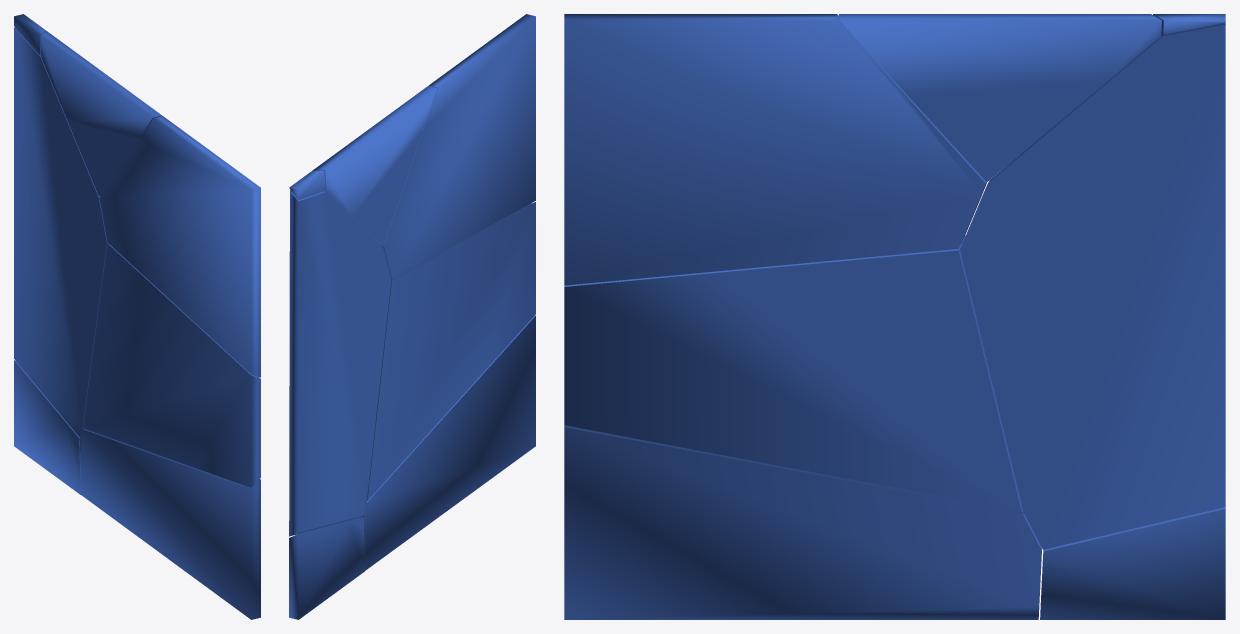
The model's file is emergencyBoxGlassDes2.fbx.
The picture shows the model from 3 angles, left to right: view 1: azimuth 30°, elevation 25°; view 2: azimuth 150°, elevation 25°; view 3: azimuth 270°, elevation 25°; orthographic projection. The views are drawn at different scales.
Parts seen in each view (by area): view 1: glass_cell.002, glass_cell.005, glass_cell.007, glass_cell.006, glass_cell.003, glass_cell.001, glass_cell; view 2: glass_cell.005, glass_cell.002, glass_cell.007, glass_cell.006, glass_cell.003, glass_cell.001, glass_cell; view 3: glass_cell.005, glass_cell.007, glass_cell.002, glass_cell.006, glass_cell.003, glass_cell.001, glass_cell.
Boxes of the visible parts, x1,y1,x2,y2 form: glass_cell.002: (83, 243, 260, 487); glass_cell.005: (14, 27, 108, 437); glass_cell.007: (99, 116, 260, 377); glass_cell.006: (79, 428, 260, 619); glass_cell.003: (41, 31, 161, 196); glass_cell.001: (14, 360, 81, 494); glass_cell: (14, 14, 45, 55); glass_cell.005: (289, 190, 391, 536); glass_cell.002: (367, 202, 535, 500); glass_cell.007: (380, 14, 535, 279); glass_cell.006: (357, 315, 535, 570); glass_cell.003: (312, 86, 437, 245); glass_cell.001: (289, 517, 364, 619); glass_cell: (289, 171, 324, 199); glass_cell.005: (960, 25, 1225, 549); glass_cell.007: (564, 14, 986, 285); glass_cell.002: (564, 235, 1024, 514); glass_cell.006: (564, 427, 1041, 619); glass_cell.003: (839, 14, 1161, 181); glass_cell.001: (1040, 507, 1225, 619); glass_cell: (1153, 14, 1225, 40).
Bounding box in the file's own units: 2.01 × 87.08 × 87.08.
